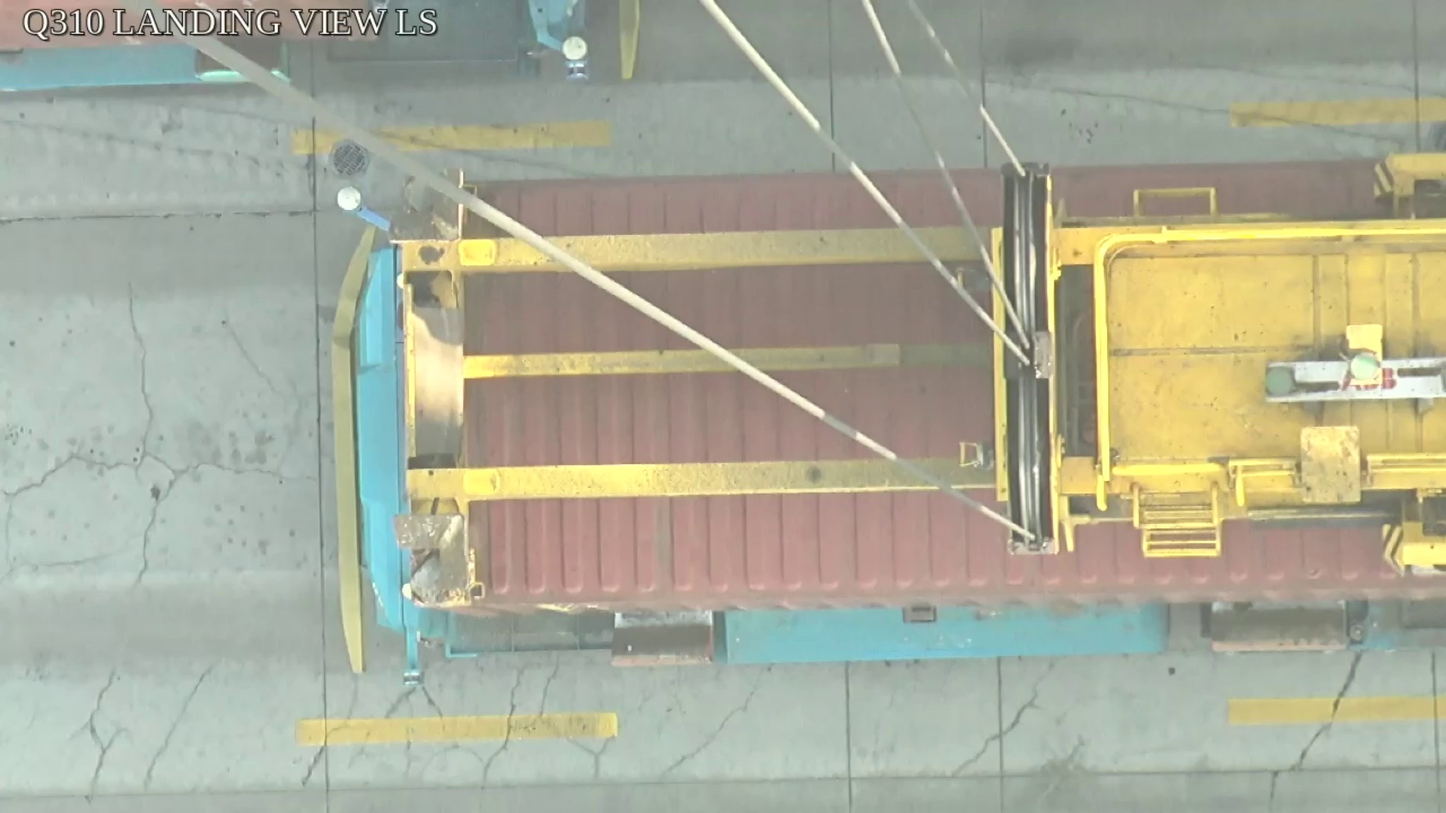aa: (990, 157, 1072, 565)
